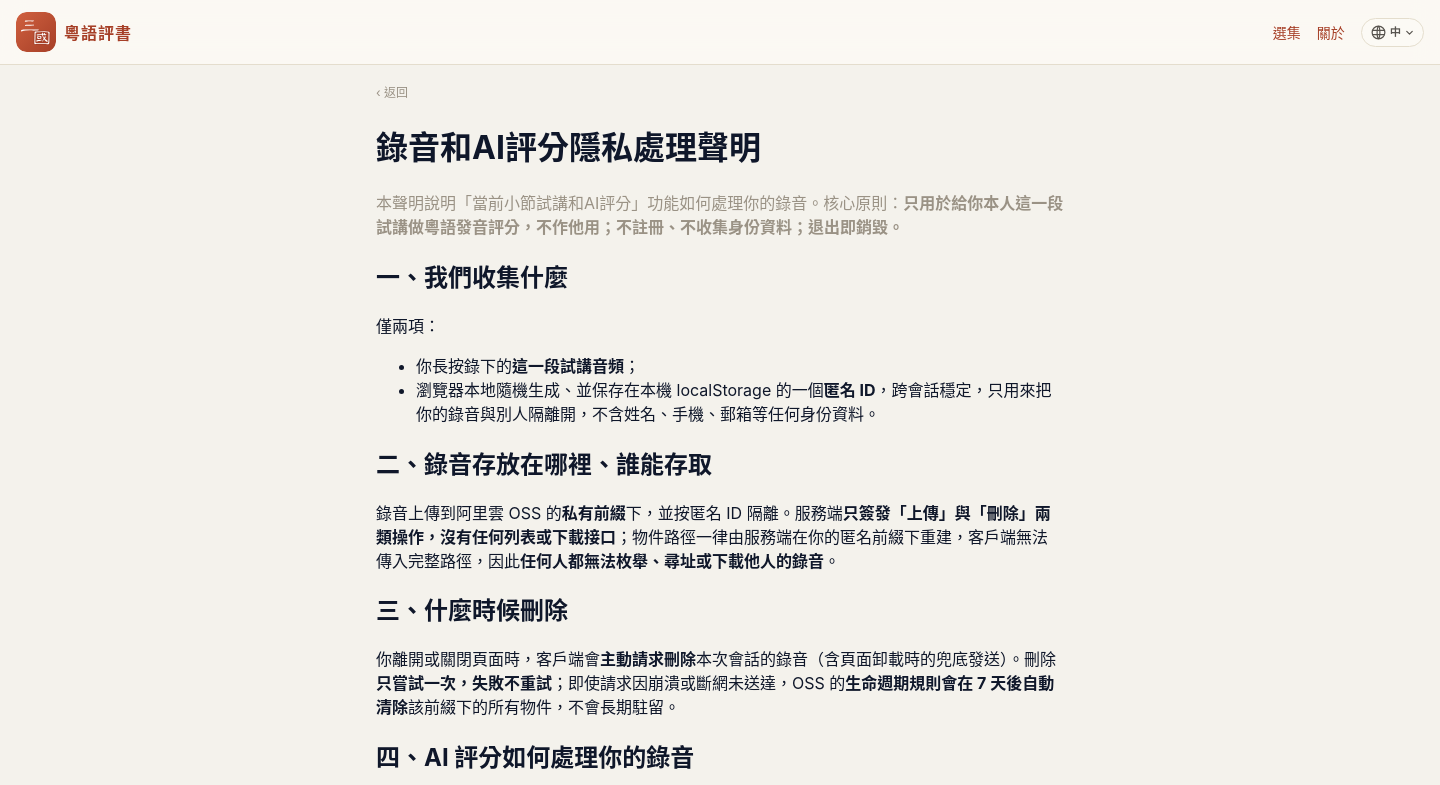
Test: App integration across routes › translates the recording-privacy route
Expected: the heading "錄音和AI評分隱私處理聲明" is shown, [376,128,761,167]
Click the button "中": (1392, 32) [1361,18,1424,46]
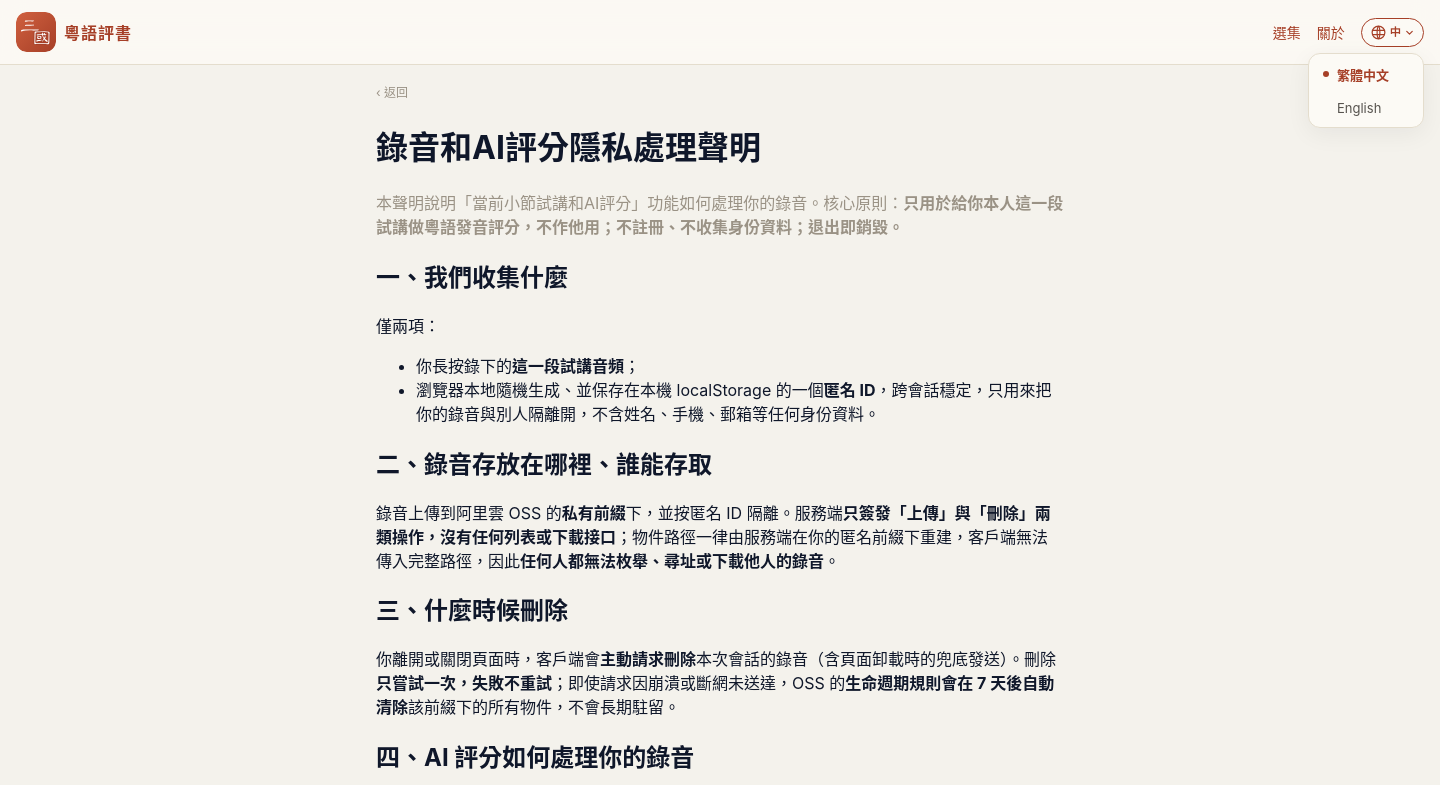
Click the button "English": (1366, 108) [1313,92,1419,122]
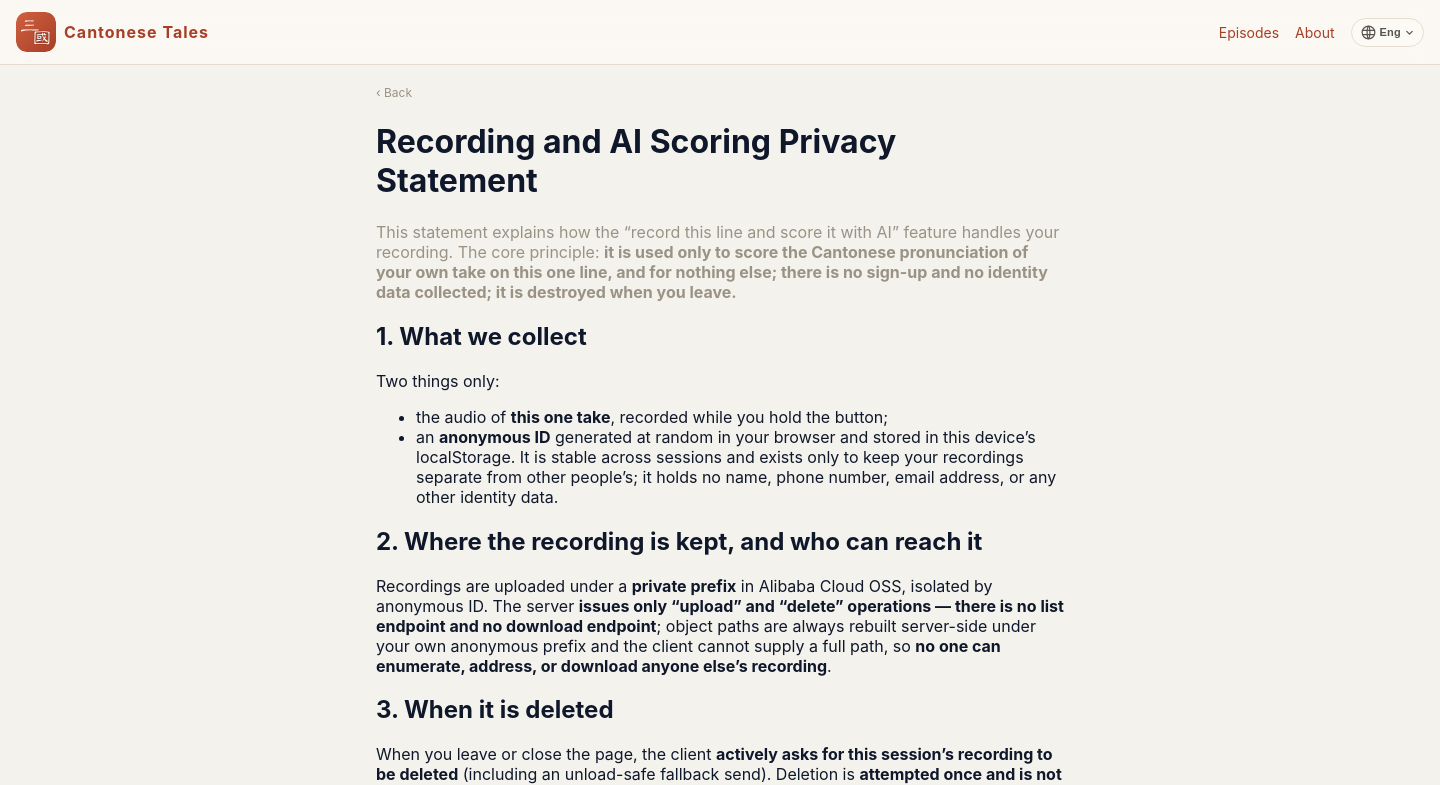
Expected: the heading "Recording and AI Scoring Privacy Statement" is shown, [376,122,896,200]
Expected: the heading "3. When it is deleted" is shown, [376,695,614,724]
